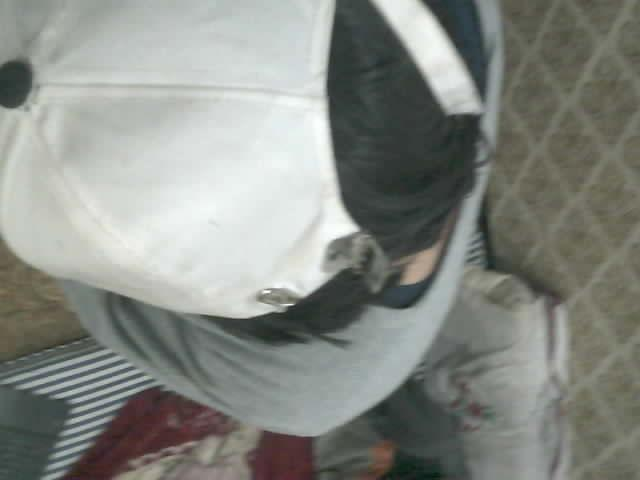cap: (0, 0, 483, 319)
